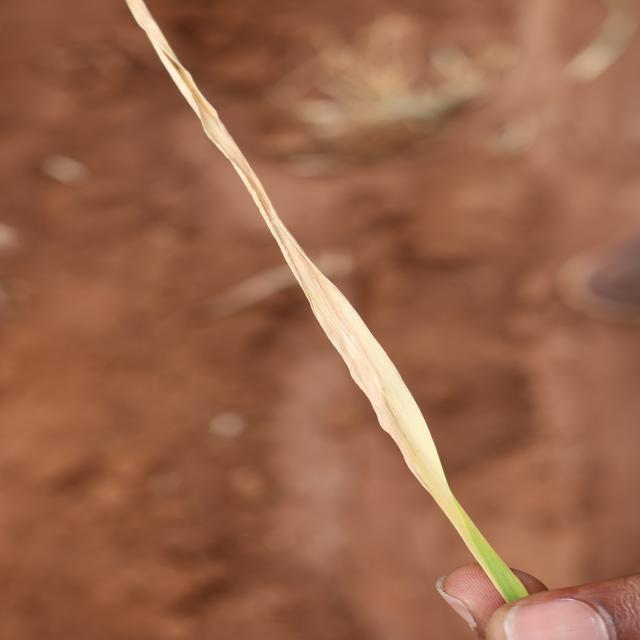Septoria: (125, 0, 492, 582)
